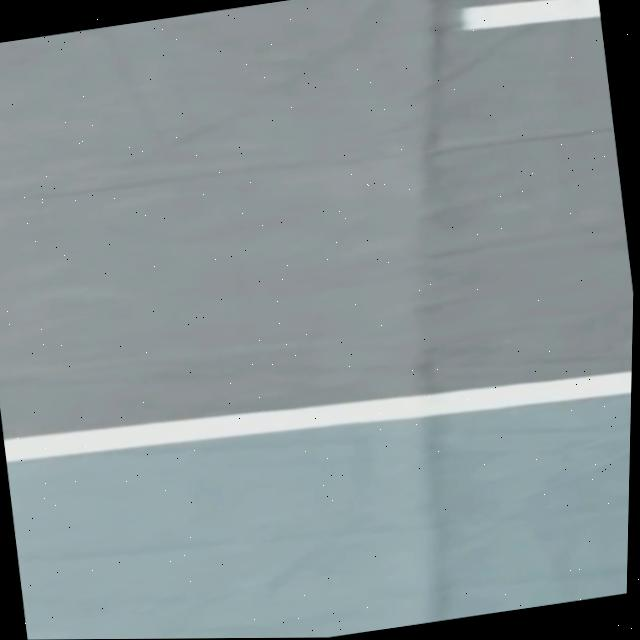center: (460, 0, 601, 29)
left: (4, 371, 632, 462)
